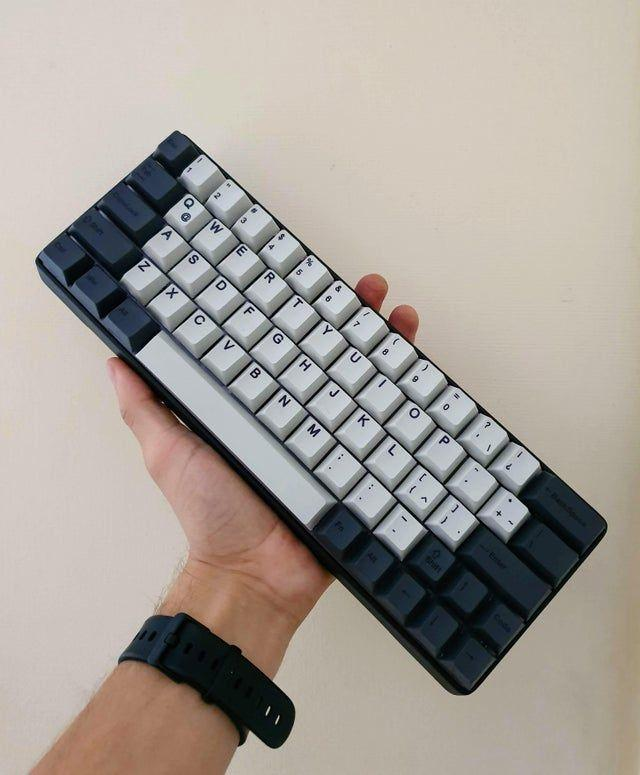keyboard: (34, 129, 608, 695)
